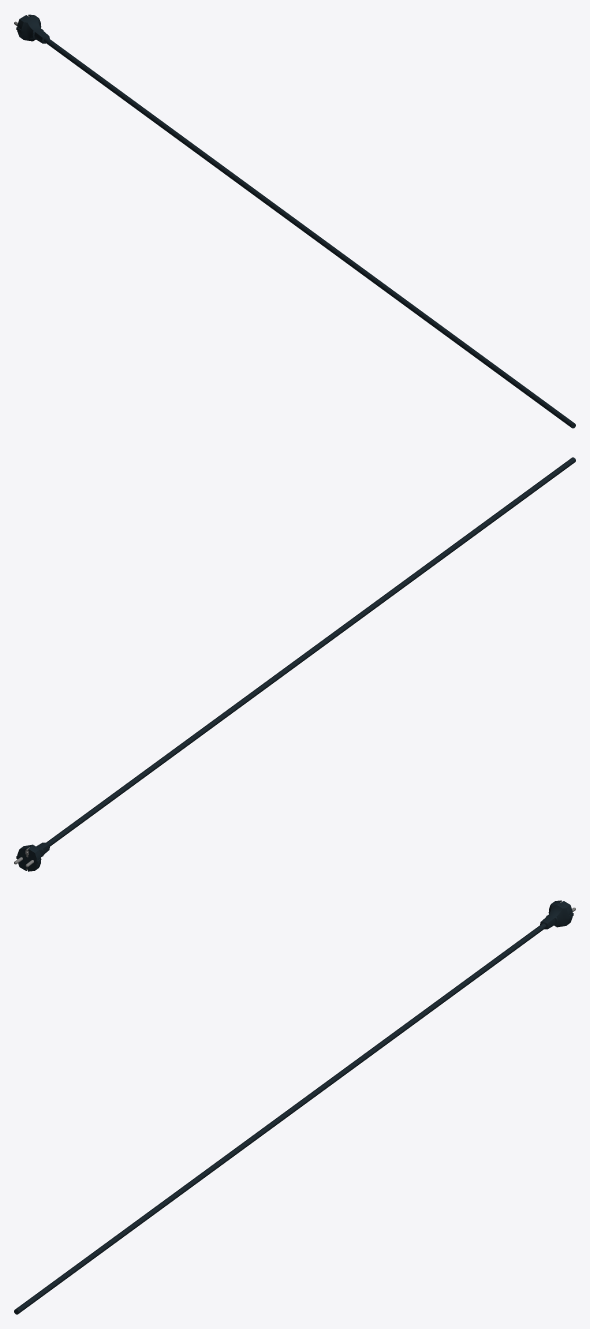
Rendered from Plug.fbx.
3 views of the same model, one above another, from view 1: azimuth 30°, elevation 25°; view 2: azimuth 150°, elevation 25°; view 3: azimuth 330°, elevation 25° (orthographic).
Parts seen in each view (by area): view 1: Cable, Plug; view 2: Cable, Plug; view 3: Cable, Plug.
Part boxes in pixels (x1,y1,x2,y2): Cable: [44, 37, 575, 428]; Plug: [16, 14, 49, 43]; Cable: [46, 457, 575, 846]; Plug: [16, 842, 49, 871]; Cable: [14, 923, 546, 1314]; Plug: [540, 900, 573, 929].
Size of the model in its own units: 3.47 by 3.57 by 157.
